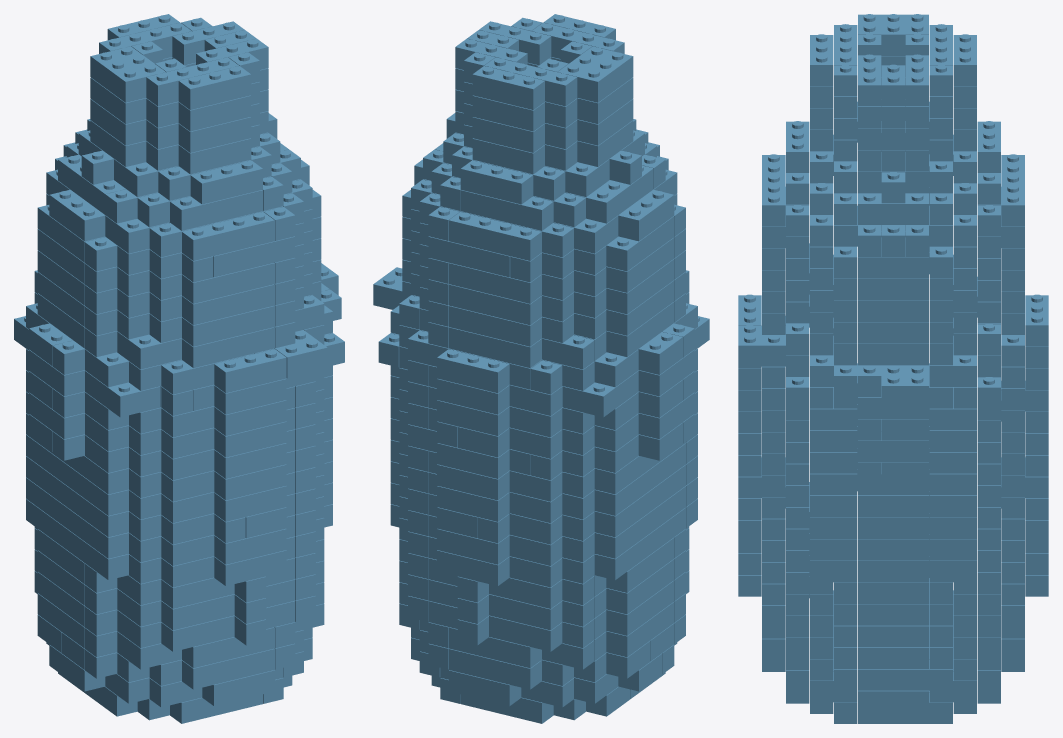
The model's file is 209_pot_L4.glb.
The picture shows the model from 3 angles, left to right: view 1: azimuth 30°, elevation 25°; view 2: azimuth 150°, elevation 25°; view 3: azimuth 270°, elevation 25°; orthographic projection.
Size of the model in its own units: 13.98 by 29.13 by 12.98.
